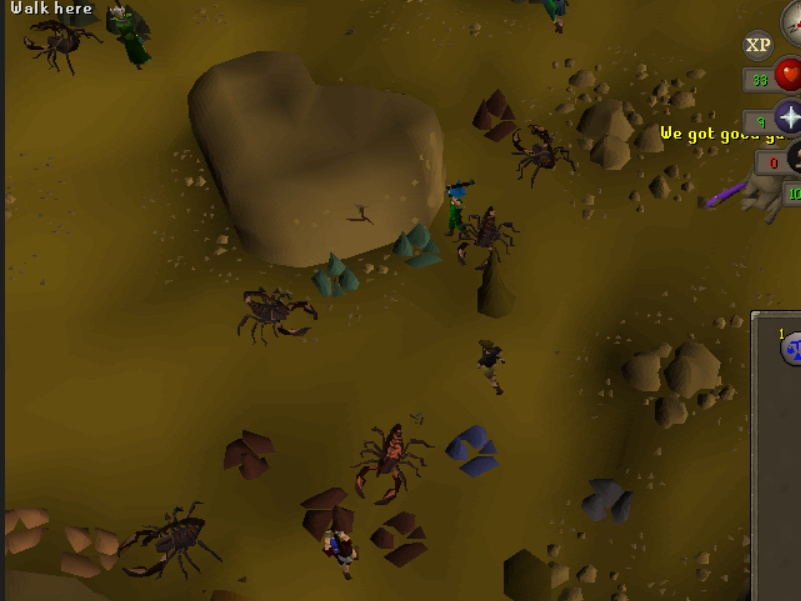adamant: (389, 218, 445, 274), (310, 248, 364, 299)
coal: (102, 1, 155, 41), (52, 1, 105, 32)
copper: (60, 518, 126, 581), (1, 496, 50, 557)
iron: (219, 425, 281, 482), (297, 484, 359, 541), (465, 86, 527, 143), (369, 509, 431, 566)
mithril: (442, 416, 509, 486)
